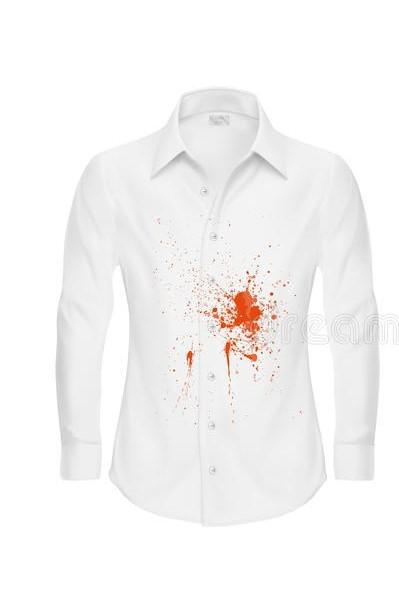gun: (188, 269, 283, 377)
